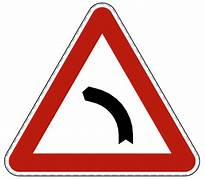left: (4, 3, 201, 176)
